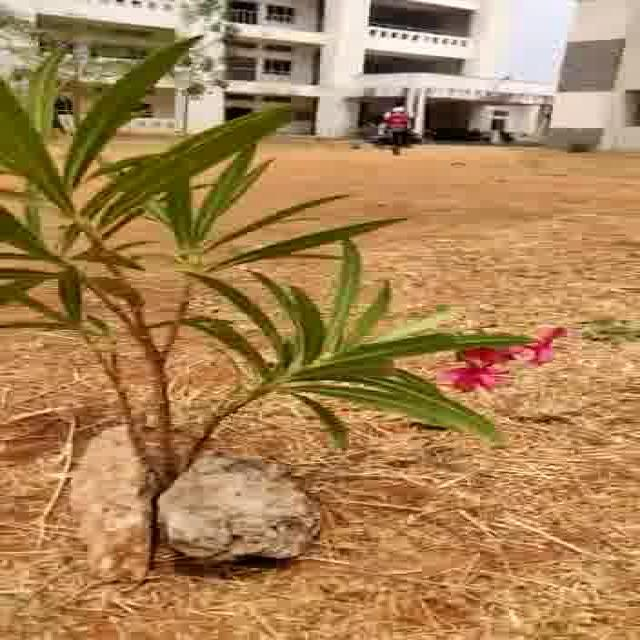Oleander: (19, 52, 536, 434)
